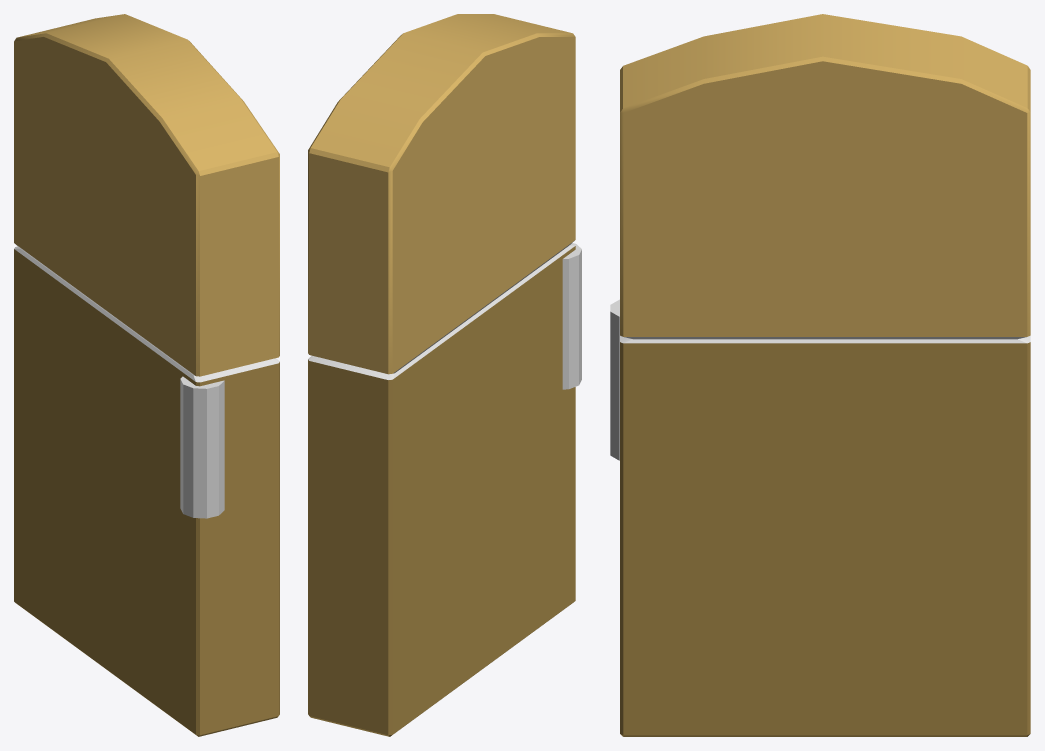
The model's file is Lighter.fbx.
The picture shows the model from 3 angles, left to right: view 1: azimuth 30°, elevation 25°; view 2: azimuth 150°, elevation 25°; view 3: azimuth 270°, elevation 25°; orthographic projection. The views are drawn at different scales.
Parts seen in each view (by area): view 1: polySurface2; view 2: polySurface2; view 3: polySurface2.
Part boxes in pixels (left/top/right/bottom): polySurface2: left=14, top=14, right=279, bottom=736; polySurface2: left=308, top=14, right=581, bottom=736; polySurface2: left=610, top=14, right=1030, bottom=736.
Size of the model in its own units: 18.09 by 115 by 64.39.
